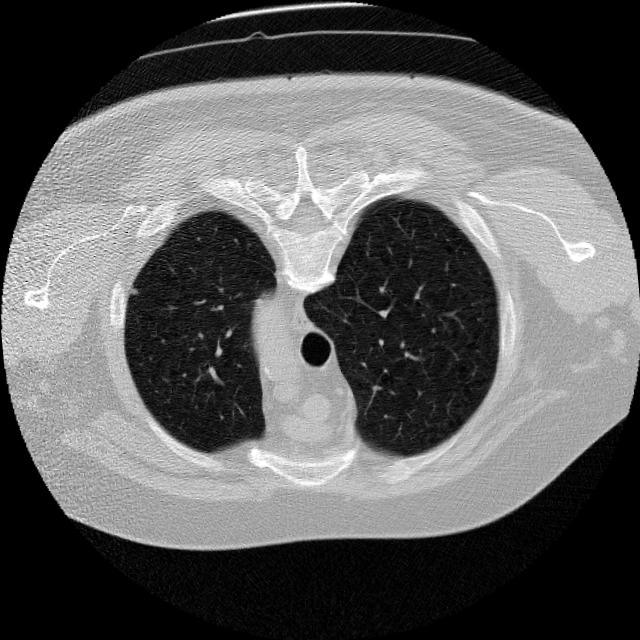nodule: (124, 281, 144, 301)
